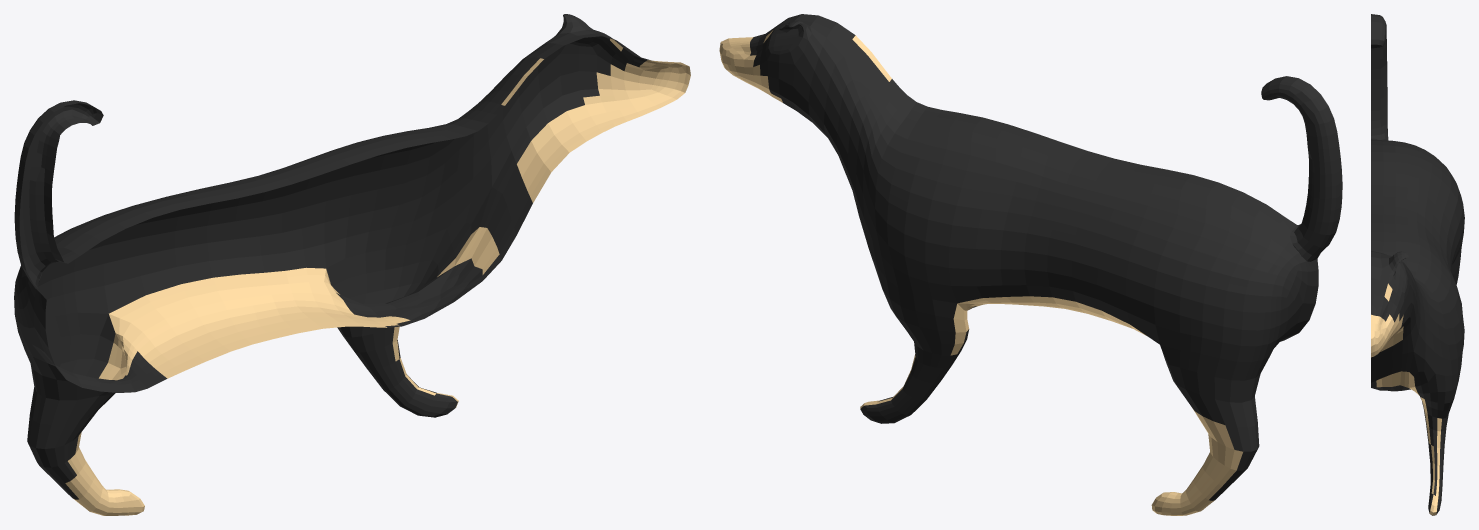
The model's file is JoyDogFinished.glb.
The picture shows the model from 3 angles, left to right: view 1: azimuth 30°, elevation 25°; view 2: azimuth 150°, elevation 25°; view 3: azimuth 270°, elevation 25°; orthographic projection. The views are drawn at different scales.
Parts seen in each view (by area): view 1: Dog Body.003; view 2: Dog Body.003; view 3: Dog Body.003.
Boxes of the visible parts, <box> form: Dog Body.003: <box>14,14,690,515</box>; Dog Body.003: <box>719,14,1342,515</box>; Dog Body.003: <box>1371,14,1464,515</box>.
Size of what is drawn, in the model's own units: 11.73 by 7.77 by 1.83.
